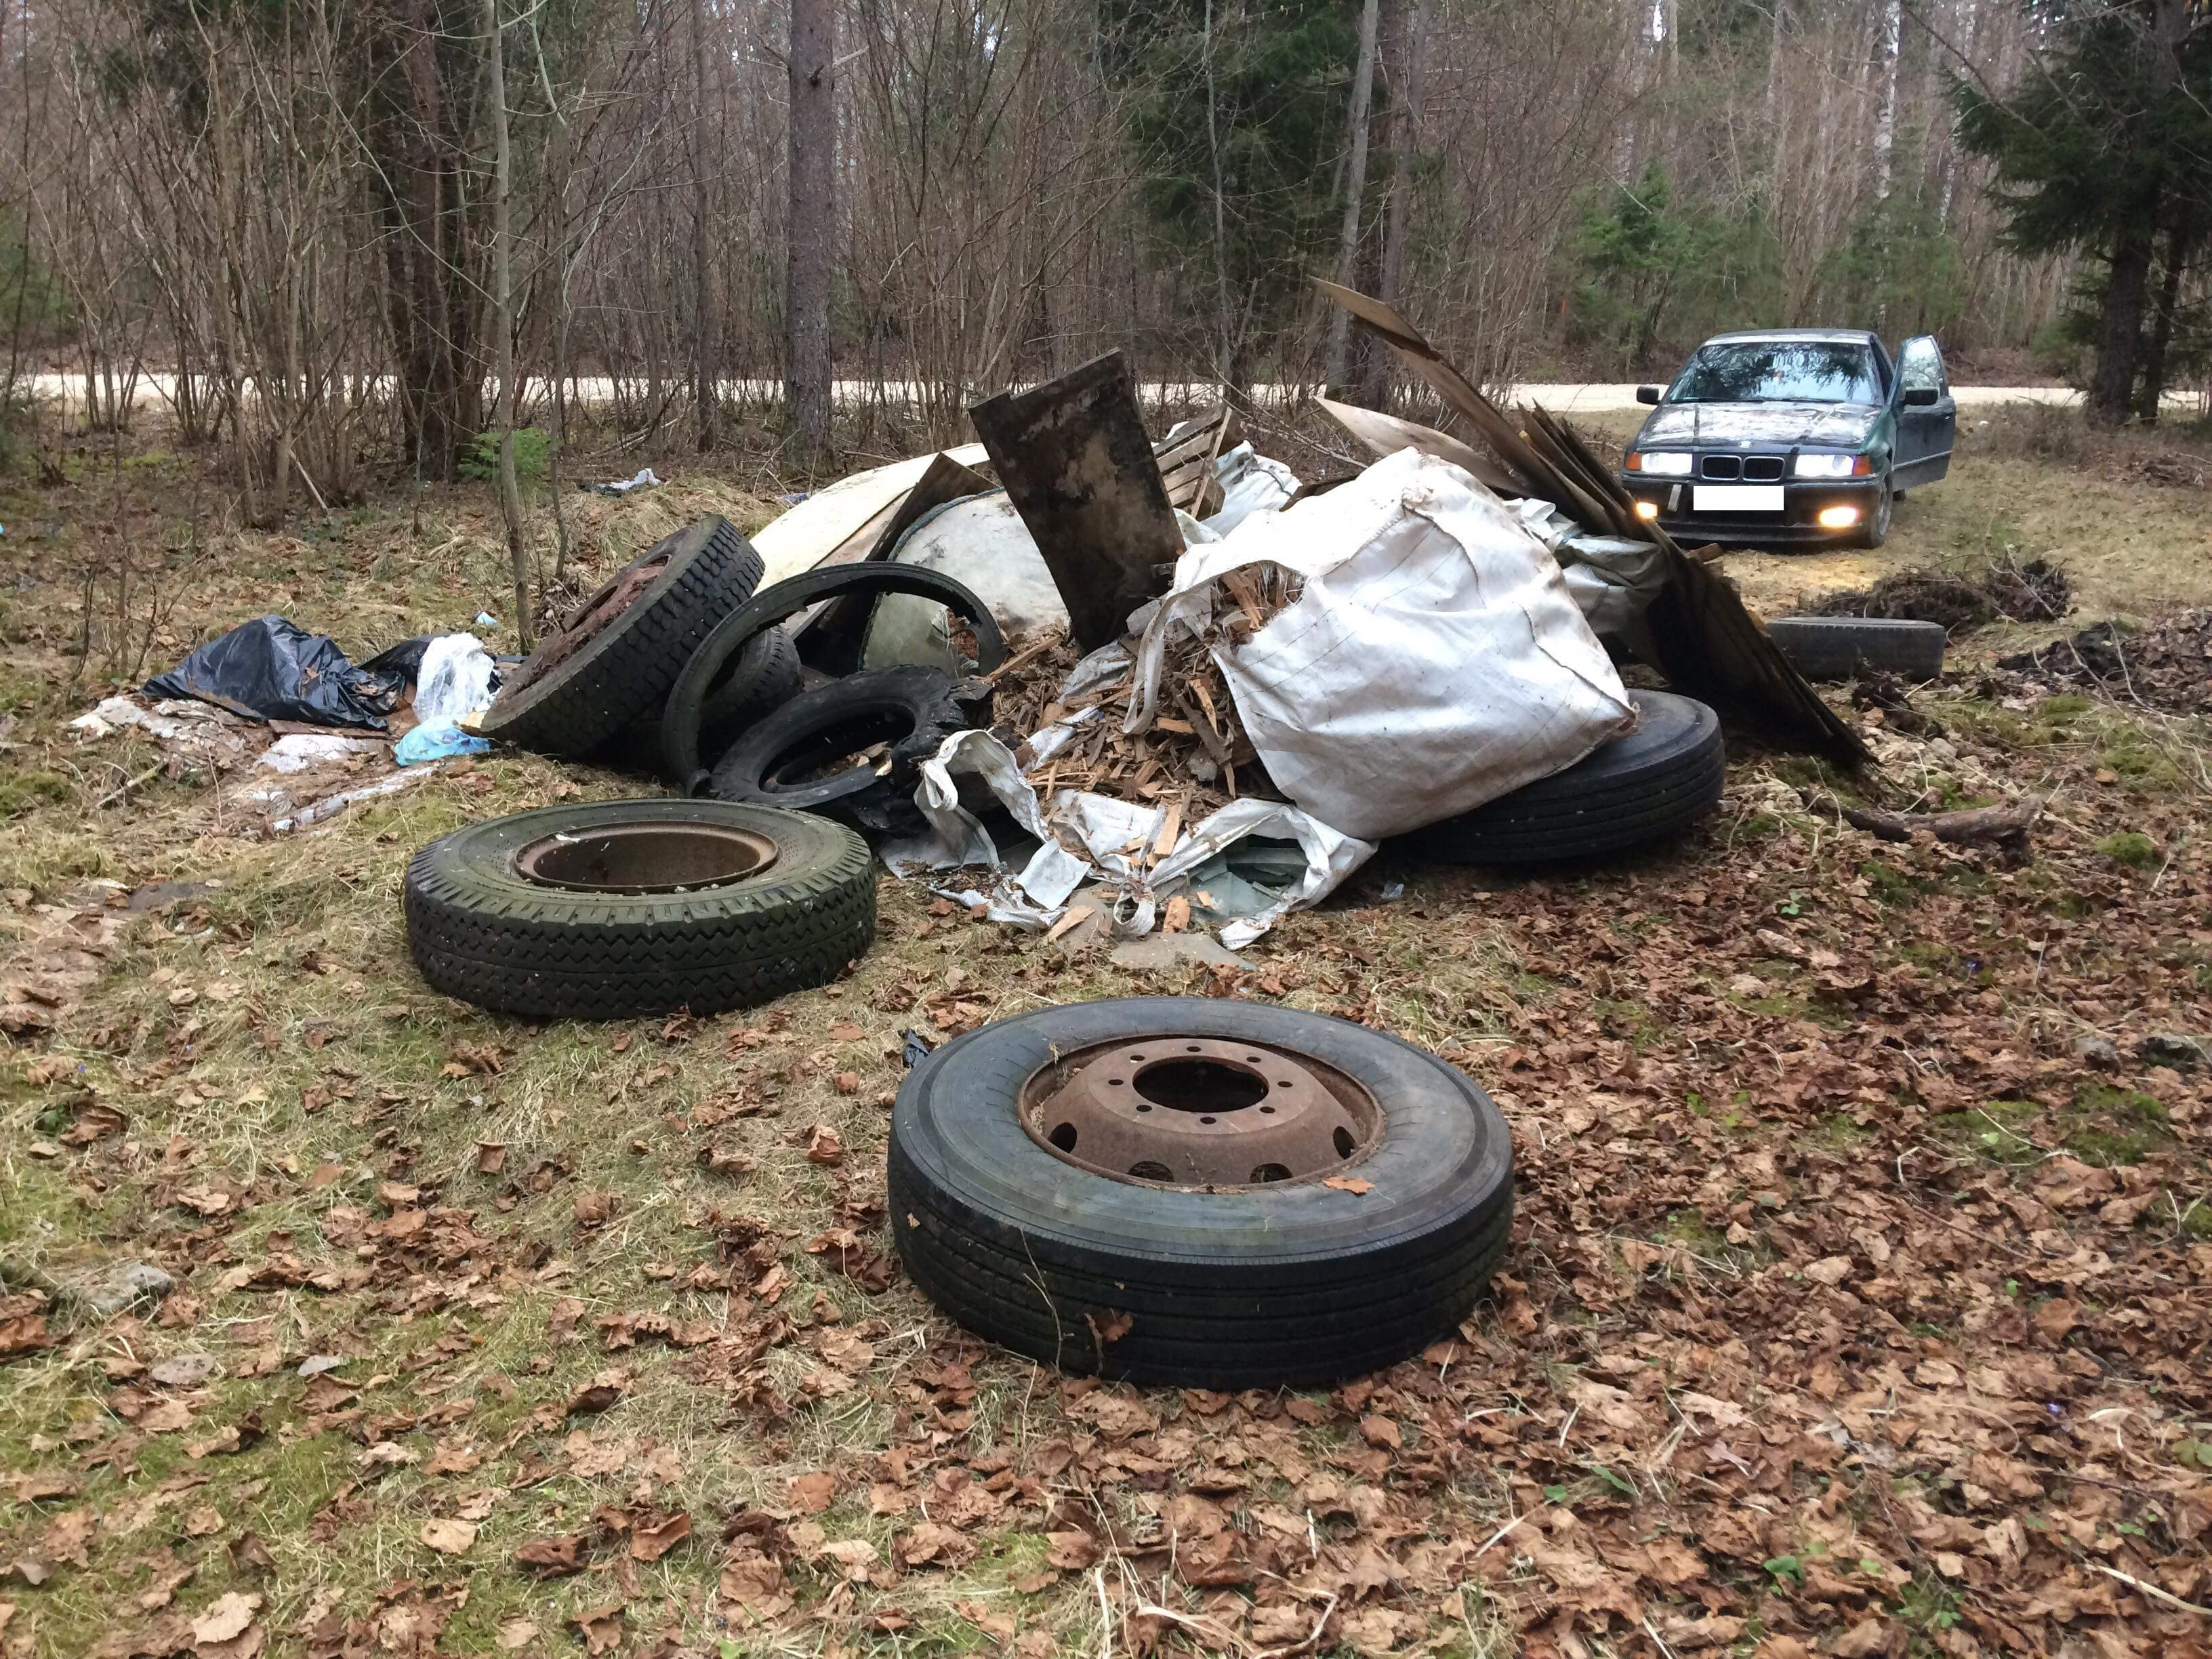trash: (155, 387, 1905, 915), (880, 981, 1561, 1387)
